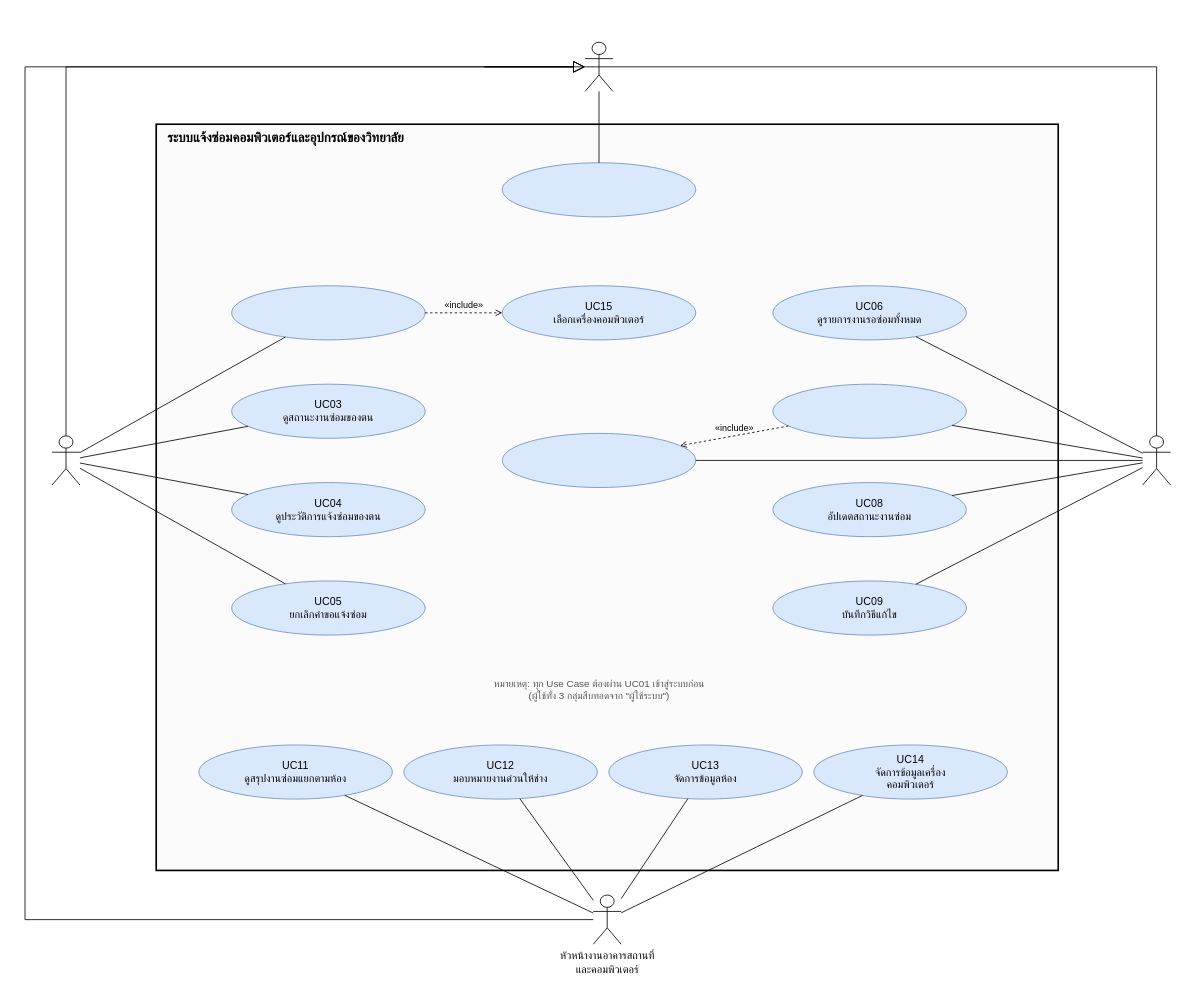
Some shapes in this 1191 by 990 pixel diagram are drawn without their labels. The shapes that lost their labels are listed below. From the top down, each one's centre as x and y in pixels, then its label:
At [598,66]: "ผู้ใช้ระบบ «abstract»".
At [598,189]: "UC01 เข้าสู่ระบบ".
At [328,312]: "UC02 แจ้งซ่อม".
At [869,410]: "UC07 รับงานซ่อม".
At [65,460]: "ผู้แจ้งซ่อม (นักศึกษา / ครู)".
At [598,460]: "UC10 ดูประวัติการซ่อมของเครื่อง".
At [1156,460]: "ช่างเทคนิค".
